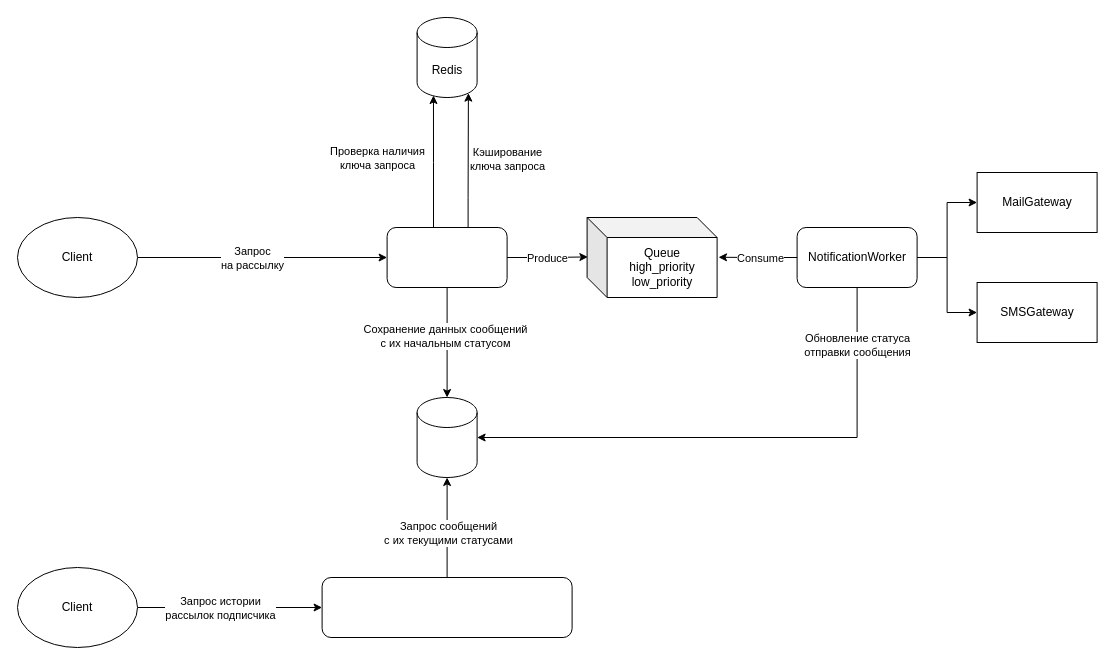
The diagram is 1115 pixels wide and 665 high, and some of its shapes have lost their labels. The shapes that lost their labels are listed below. From the top down, each one's centre as x and y in pixels, then its label:
pixel 446 257: POST /notifications
pixel 446 437: Postgres
pixel 446 607: GET /notifications/by_subscriber/{subscriber_id}
